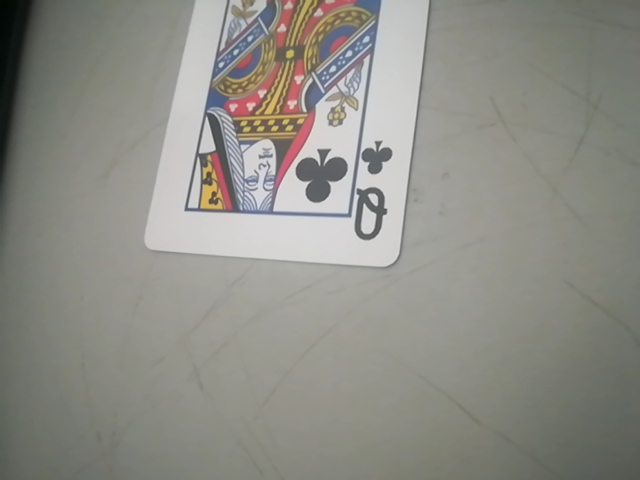mh q: (140, 0, 444, 272)
